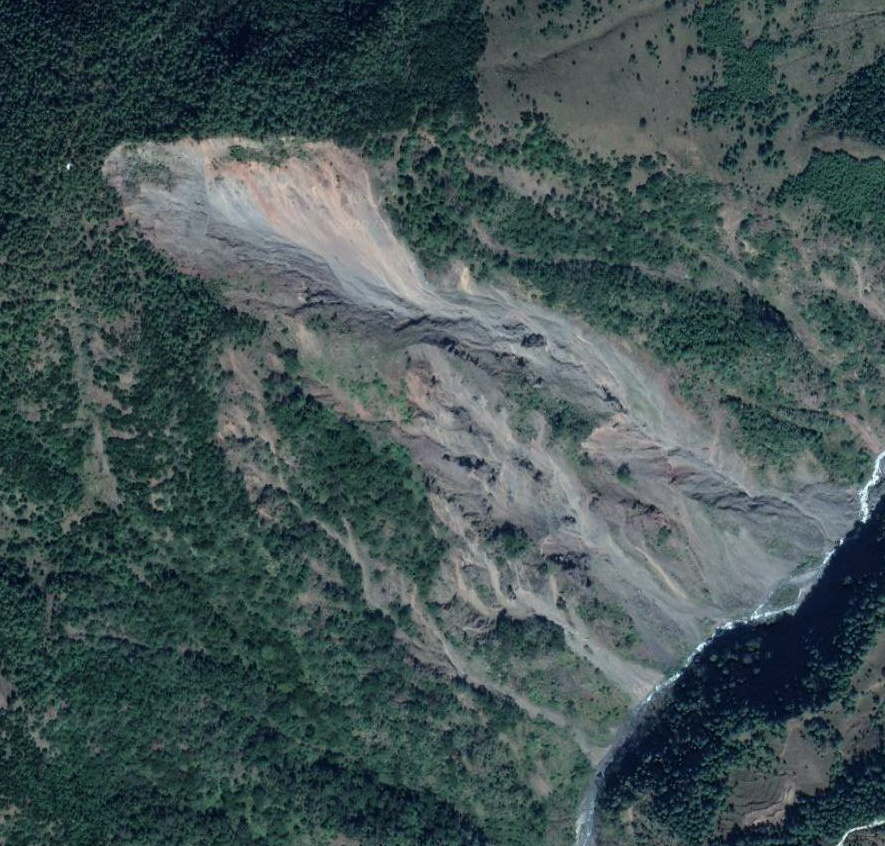slope: (95, 127, 862, 698)
